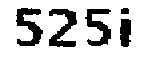2: (46, 6, 79, 52)
5: (81, 7, 114, 54), (13, 6, 44, 52)
i: (116, 5, 141, 53)
